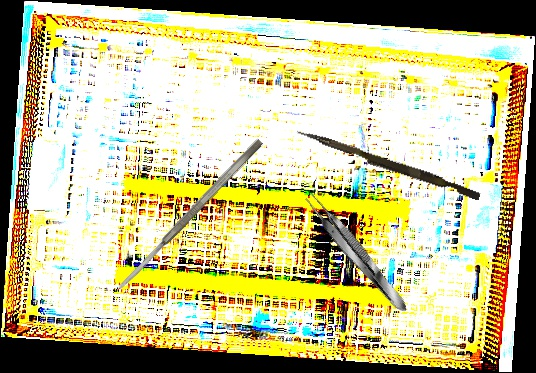Pusher: (293, 128, 483, 201)
Spatula Surgical: (115, 137, 265, 292)
Tissue Forceps: (299, 188, 414, 319)
